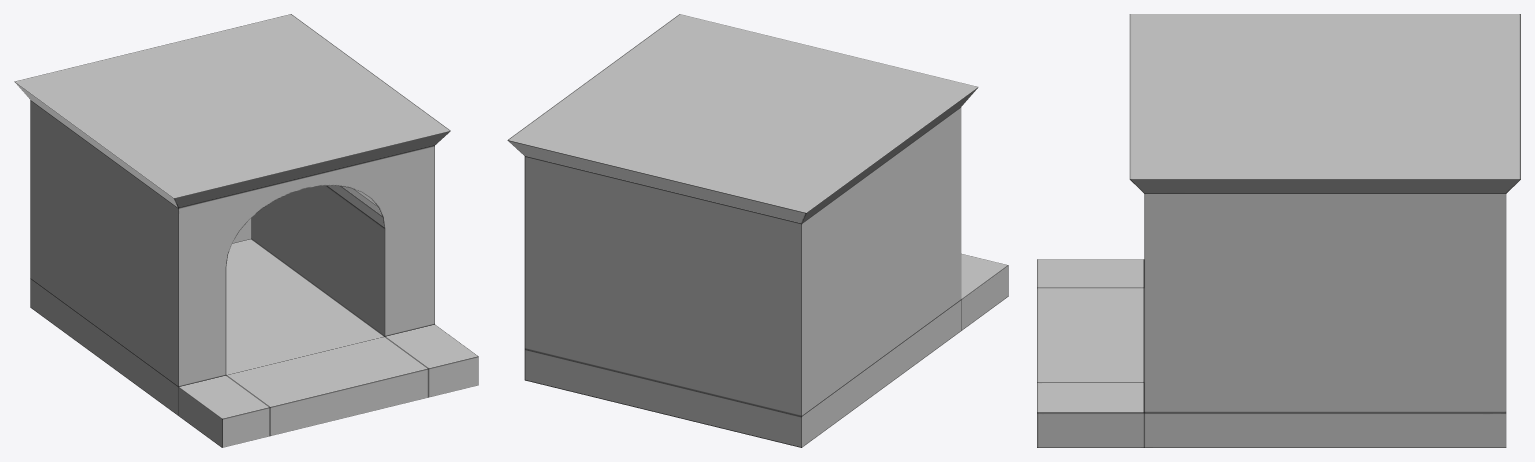
The model's file is Fireplace Model.fbx.
The picture shows the model from 3 angles, left to right: view 1: azimuth 30°, elevation 25°; view 2: azimuth 150°, elevation 25°; view 3: azimuth 270°, elevation 25°; orthographic projection. The views are drawn at different scales.
Visible parts, largest first — view 1: Fireplace Model; view 2: Fireplace Model; view 3: Fireplace Model.
Boxes of the visible parts, x1,y1,x2,y2 form: Fireplace Model: [14, 14, 478, 447]; Fireplace Model: [507, 14, 1008, 447]; Fireplace Model: [1037, 14, 1520, 447].
Size of the model in its own units: 128 by 98.83 by 158.
1 material, 1 textured.
